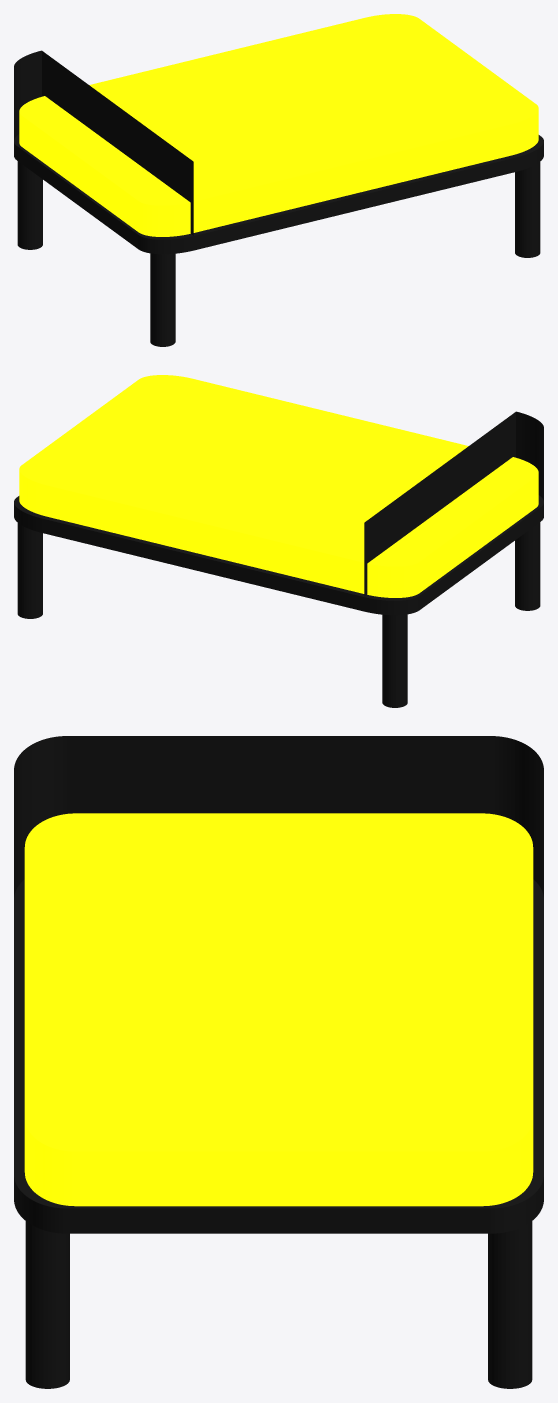
Rendered from yellowbed.fbx.
3 views of the same model, one above another, from view 1: azimuth 30°, elevation 25°; view 2: azimuth 150°, elevation 25°; view 3: azimuth 270°, elevation 25° (orthographic). The views are drawn at different scales.
Parts seen in each view (by area): view 1: 立方体.001, 立方体, 柱体; view 2: 立方体.001, 立方体, 柱体; view 3: 立方体.001, 立方体, 柱体.
Part boxes in pixels (x1,y1,x2,y2): 立方体.001: (19, 14, 538, 236); 立方体: (14, 50, 543, 254); 柱体: (17, 161, 540, 346); 立方体.001: (19, 375, 538, 597); 立方体: (14, 411, 543, 615); 柱体: (17, 522, 540, 707); 立方体.001: (24, 813, 533, 1206); 立方体: (14, 736, 543, 1233); 柱体: (25, 1221, 532, 1388).
Bounding box in the file's own units: 3000 × 1293 × 1960.
